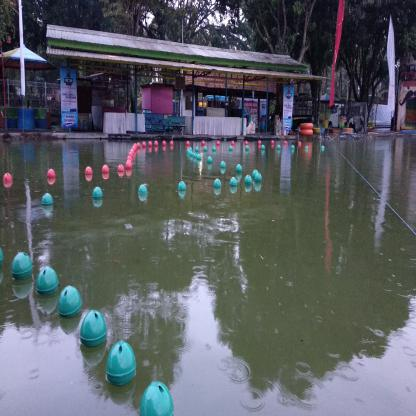green_buoy: (106, 341, 137, 390), (139, 379, 173, 416), (80, 306, 106, 350), (35, 264, 60, 301), (58, 285, 82, 321), (9, 252, 32, 284), (91, 185, 103, 205), (136, 182, 149, 200), (43, 189, 53, 206), (229, 176, 238, 188), (212, 178, 222, 188), (178, 180, 186, 192), (244, 173, 252, 185), (254, 172, 262, 183), (252, 169, 259, 179), (219, 160, 226, 168), (236, 163, 242, 172), (197, 153, 202, 160), (207, 156, 212, 163), (186, 148, 191, 154), (195, 146, 199, 152), (212, 146, 216, 152), (193, 152, 197, 158), (261, 145, 265, 150), (245, 145, 249, 150), (204, 146, 208, 151), (188, 147, 192, 152), (190, 151, 194, 156), (276, 145, 280, 149), (290, 145, 294, 149), (321, 145, 325, 149), (229, 146, 233, 150), (305, 145, 308, 149), (188, 150, 191, 154)
red_buoy: (3, 173, 12, 187), (46, 168, 56, 180), (101, 164, 110, 175), (84, 166, 93, 175), (124, 161, 132, 171), (117, 164, 125, 172), (136, 141, 141, 149), (185, 140, 190, 146), (216, 140, 220, 146), (162, 140, 166, 146), (142, 141, 146, 147), (148, 141, 152, 147), (201, 140, 205, 145), (231, 140, 235, 145), (154, 141, 158, 146), (258, 140, 261, 145), (170, 140, 173, 145), (245, 140, 248, 145), (271, 140, 274, 144), (284, 140, 287, 144), (298, 141, 302, 144)
